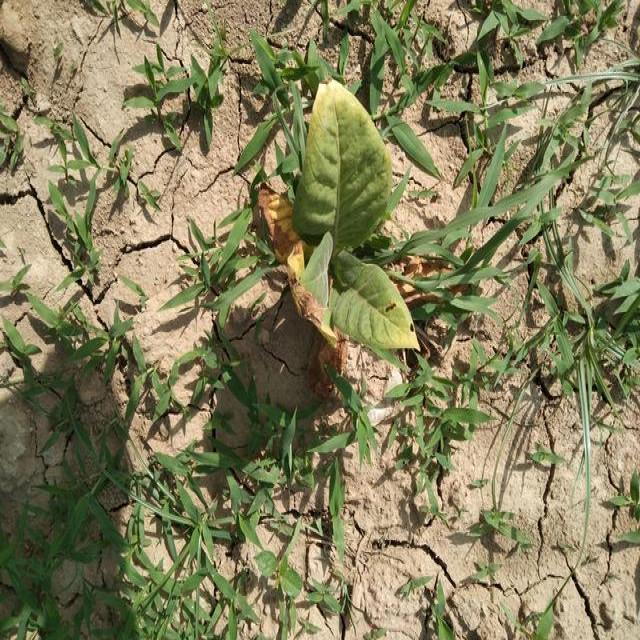crop: (288, 60, 427, 369)
